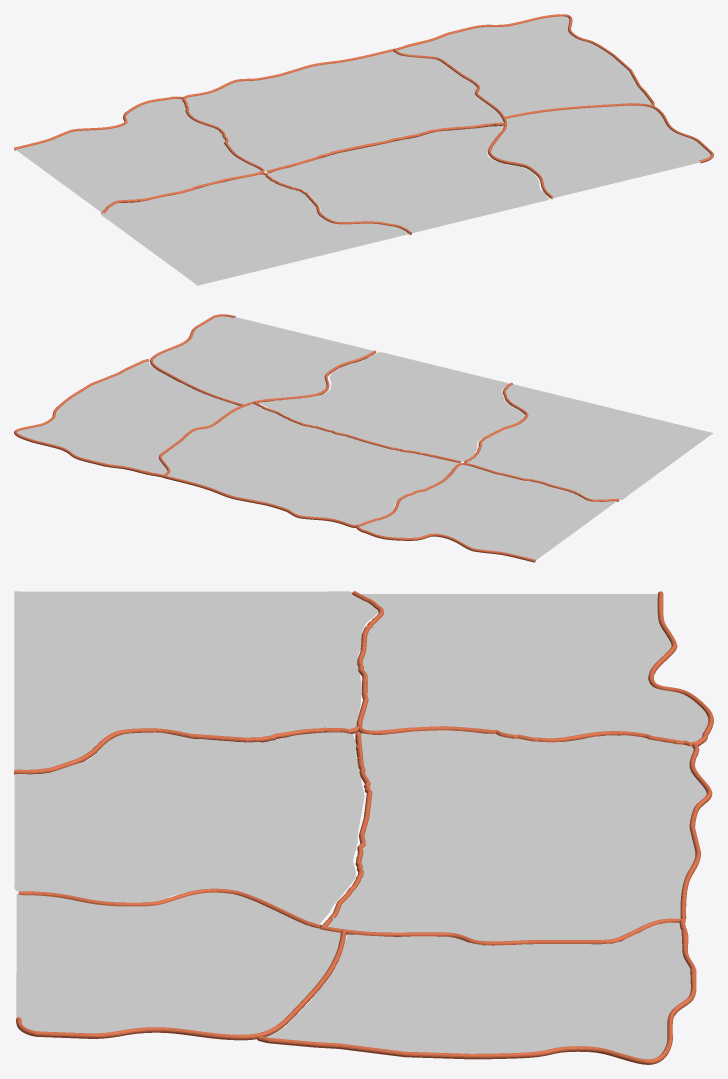
Rendered from AllBorders2TEST.fbx.
The picture shows the model from 3 angles, top to bottom: view 1: azimuth 30°, elevation 25°; view 2: azimuth 150°, elevation 25°; view 3: azimuth 270°, elevation 25°; orthographic projection. The views are drawn at different scales.
Visible parts, largest first — view 1: path1.003, path1.001, path1, path1.002, path1.005, path1.004, path1.009, path1.008, path1.010, path1.006, path1.007; view 2: path1.003, path1.001, path1, path1.002, path1.005, path1.004, path1.009, path1.008, path1.010, path1.006, path1.007; view 3: path1.003, path1.001, path1, path1.002, path1.005, path1.004, path1.009, path1.010, path1.008, path1.006, path1.007.
Boxes of the visible parts, box(x1,y1,x2,y2) form: path1.003: box(185, 51, 503, 171); path1.001: box(268, 126, 549, 232); path1: box(101, 174, 410, 285); path1.002: box(15, 99, 260, 213); path1.005: box(397, 16, 652, 116); path1.004: box(491, 105, 710, 198); path1.009: box(183, 48, 507, 173); path1.008: box(14, 96, 264, 214); path1.010: box(487, 103, 713, 199); path1.006: box(394, 14, 654, 105); path1.007: box(260, 172, 411, 235); path1.003: box(161, 403, 459, 525); path1.001: box(258, 352, 524, 461); path1: box(467, 384, 713, 500); path1.002: box(359, 465, 616, 560); path1.005: box(17, 361, 239, 474); path1.004: box(153, 316, 373, 404); path1.009: box(158, 401, 460, 527); path1.008: box(356, 463, 618, 562); path1.010: box(150, 314, 376, 405); path1.006: box(14, 359, 163, 477); path1.007: box(464, 382, 528, 462); path1.003: box(327, 730, 706, 941); path1.001: box(14, 732, 364, 924); path1: box(14, 591, 378, 769); path1.002: box(361, 594, 708, 742); path1.005: box(265, 922, 690, 1059); path1.004: box(16, 892, 340, 1034); path1.009: box(320, 732, 712, 945); path1.010: box(16, 888, 346, 1040); path1.008: box(352, 591, 713, 746); path1.006: box(257, 919, 696, 1064); path1.007: box(14, 726, 358, 774).
Bounding box in the file's own units: 4029 × 20 × 2524.
